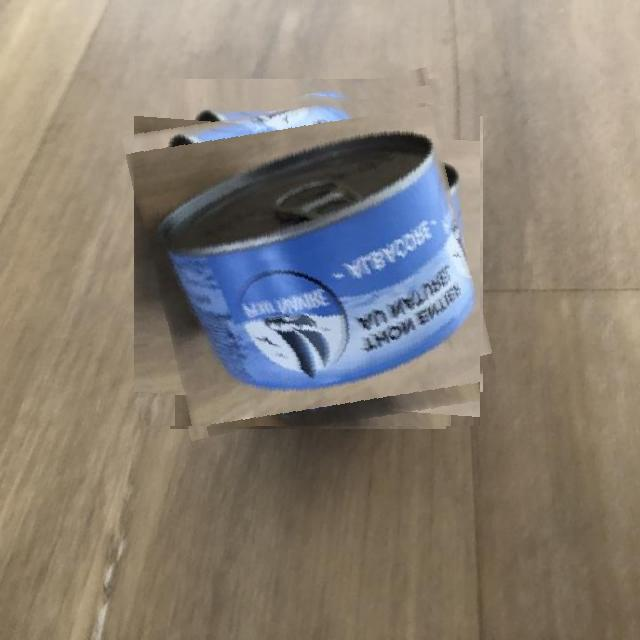recyclable: (137, 82, 480, 426)
